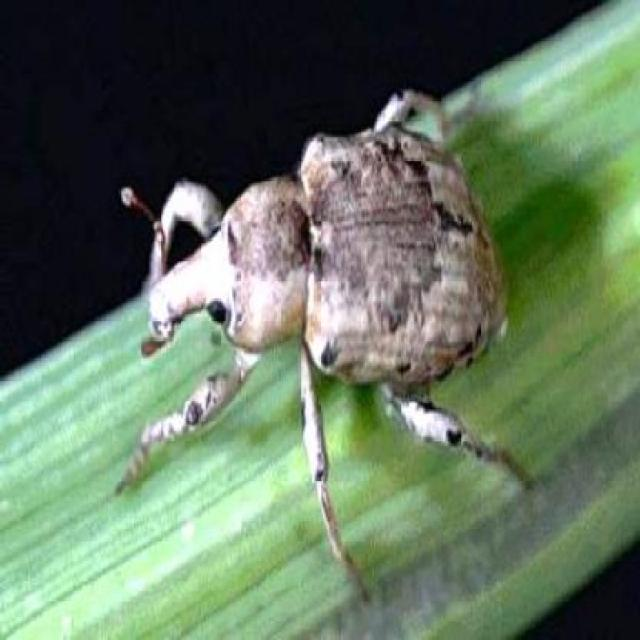rice-bug: (114, 75, 534, 603)
